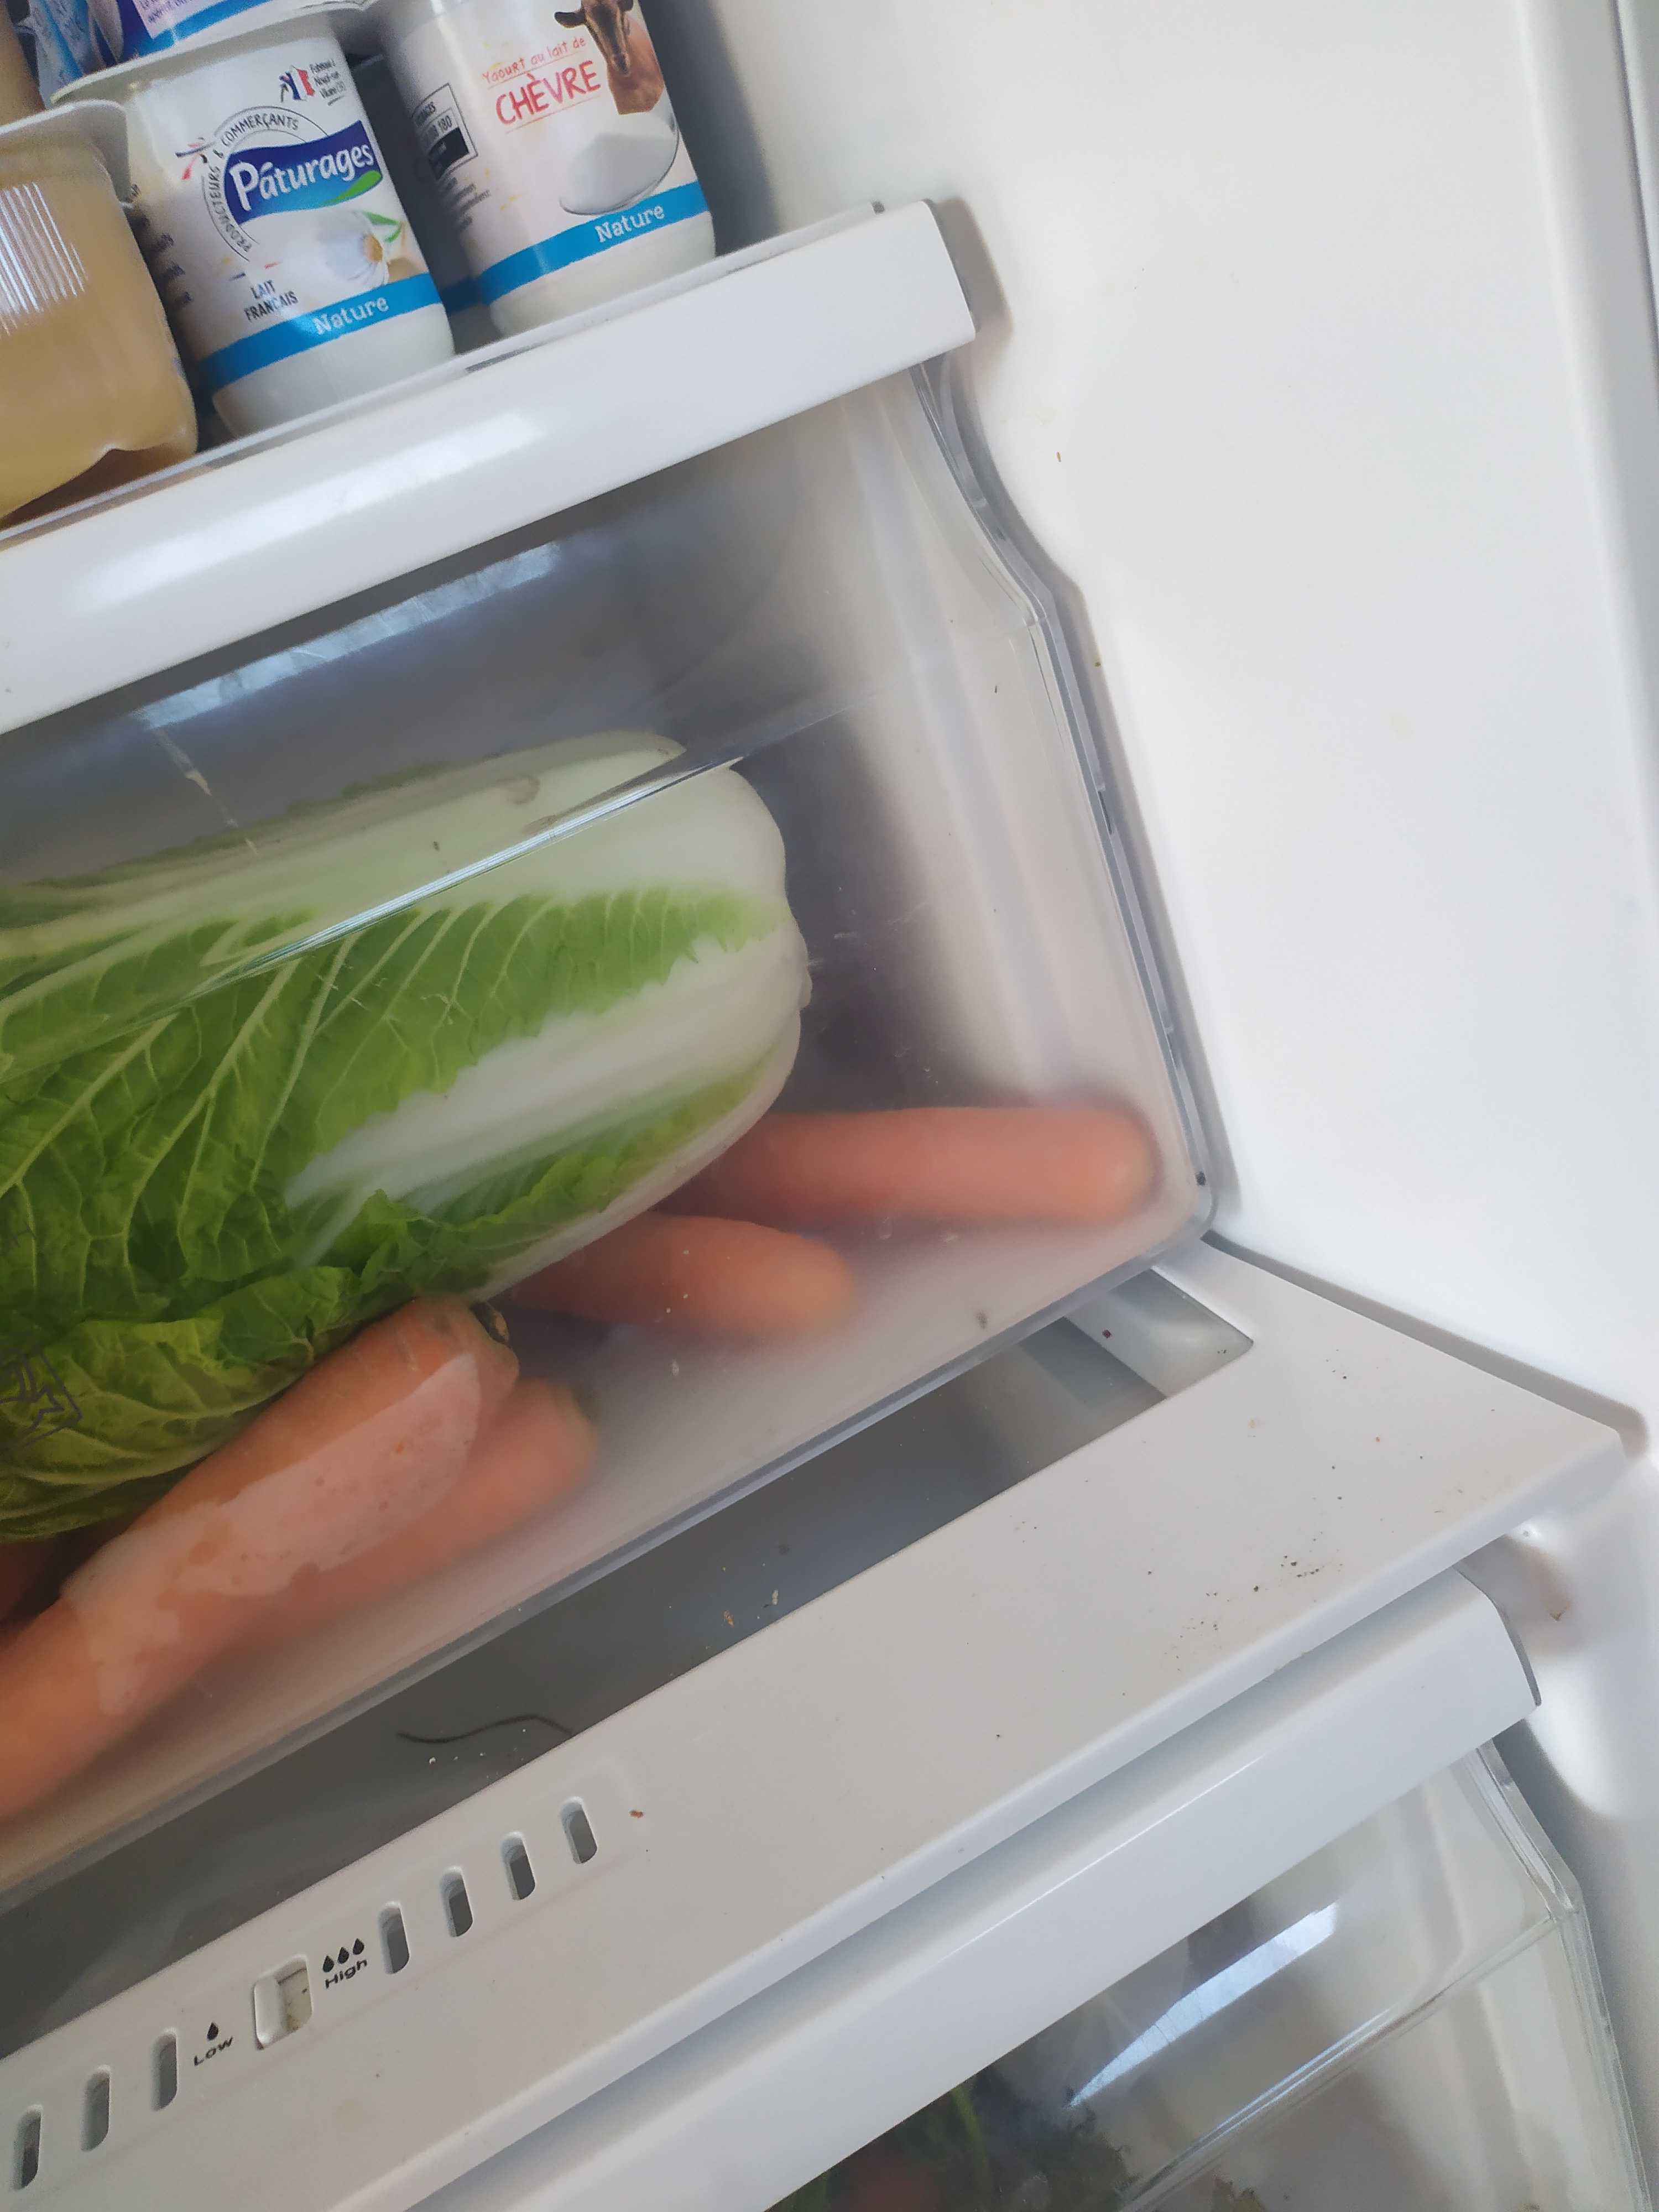carrot: (0, 1291, 525, 1801), (220, 1386, 594, 1672), (664, 1106, 1154, 1223), (476, 1221, 854, 1336)
compote: (0, 101, 227, 531)
yoghurt: (75, 9, 441, 460), (375, 0, 721, 366), (78, 0, 319, 80)
